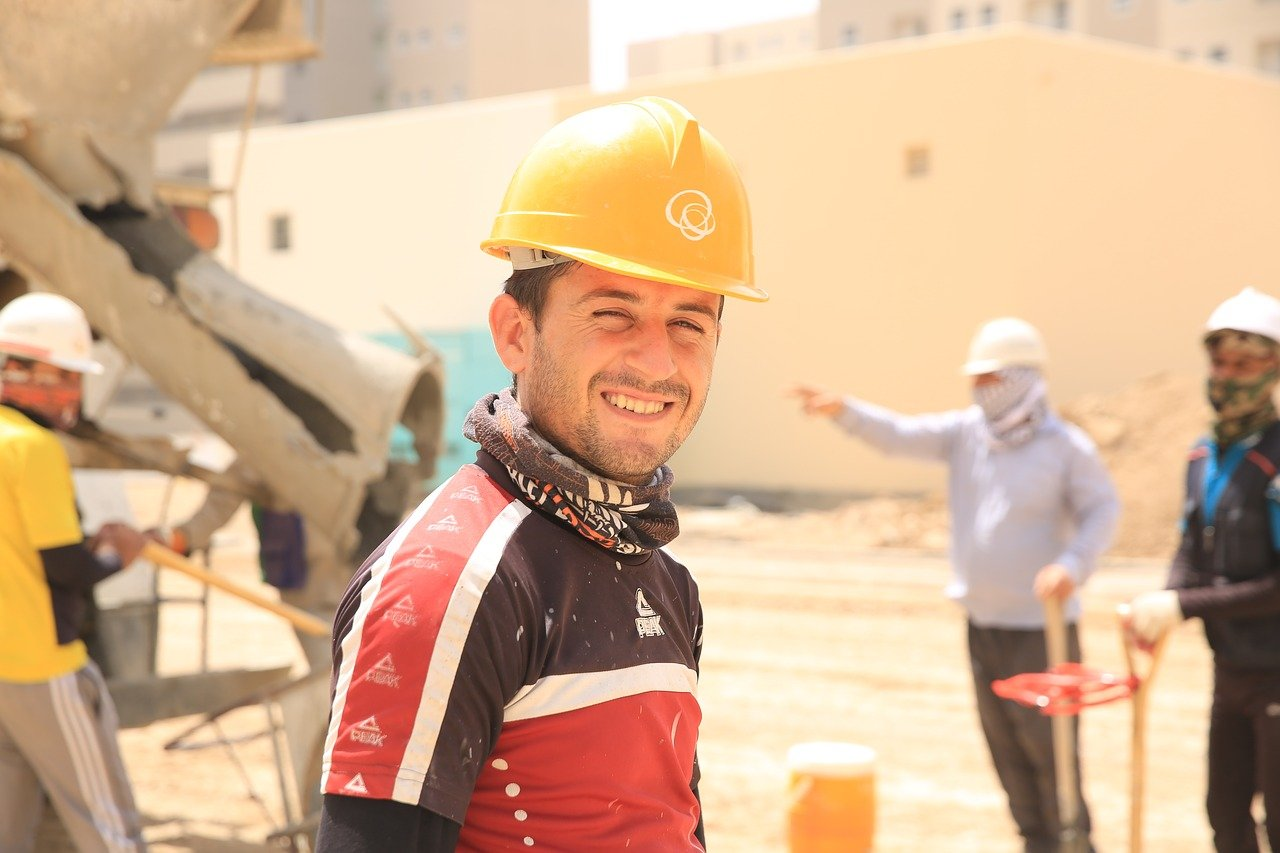Hard Hat: (475, 109, 768, 474), (1, 291, 107, 421), (1202, 278, 1279, 409), (954, 313, 1049, 418)
Person: (320, 109, 727, 853), (784, 311, 1095, 851), (1121, 275, 1280, 846), (2, 293, 141, 853)
